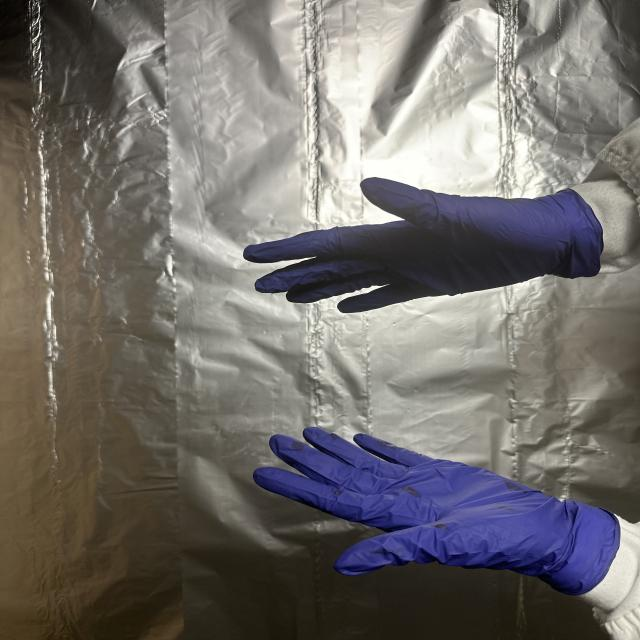gloves_contaminated: (254, 428, 620, 594), (244, 178, 603, 312)
